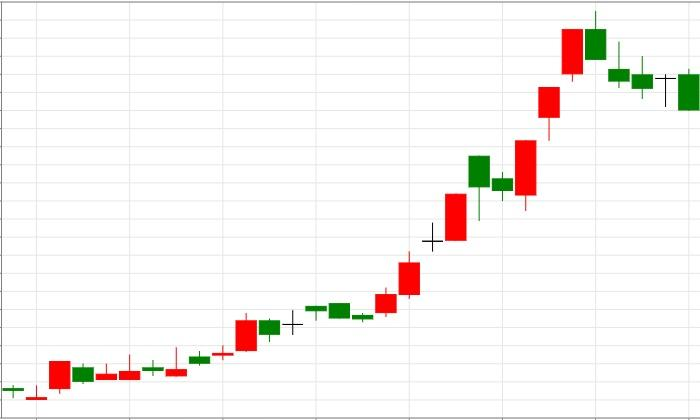hanging_man_fall: (375, 156, 490, 318)
